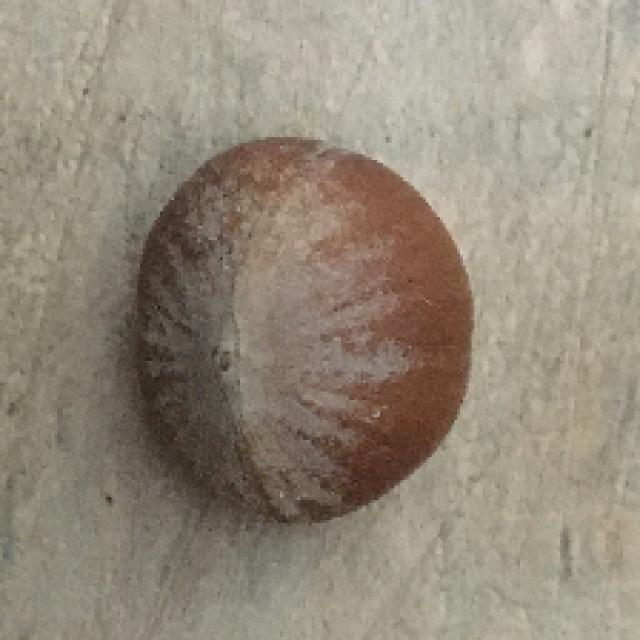qualityHazelnut: (134, 133, 473, 530)
